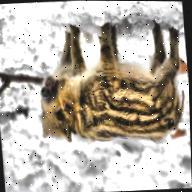boar: (14, 3, 191, 163)
